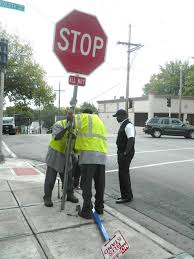stop_sign: (52, 9, 107, 76)
